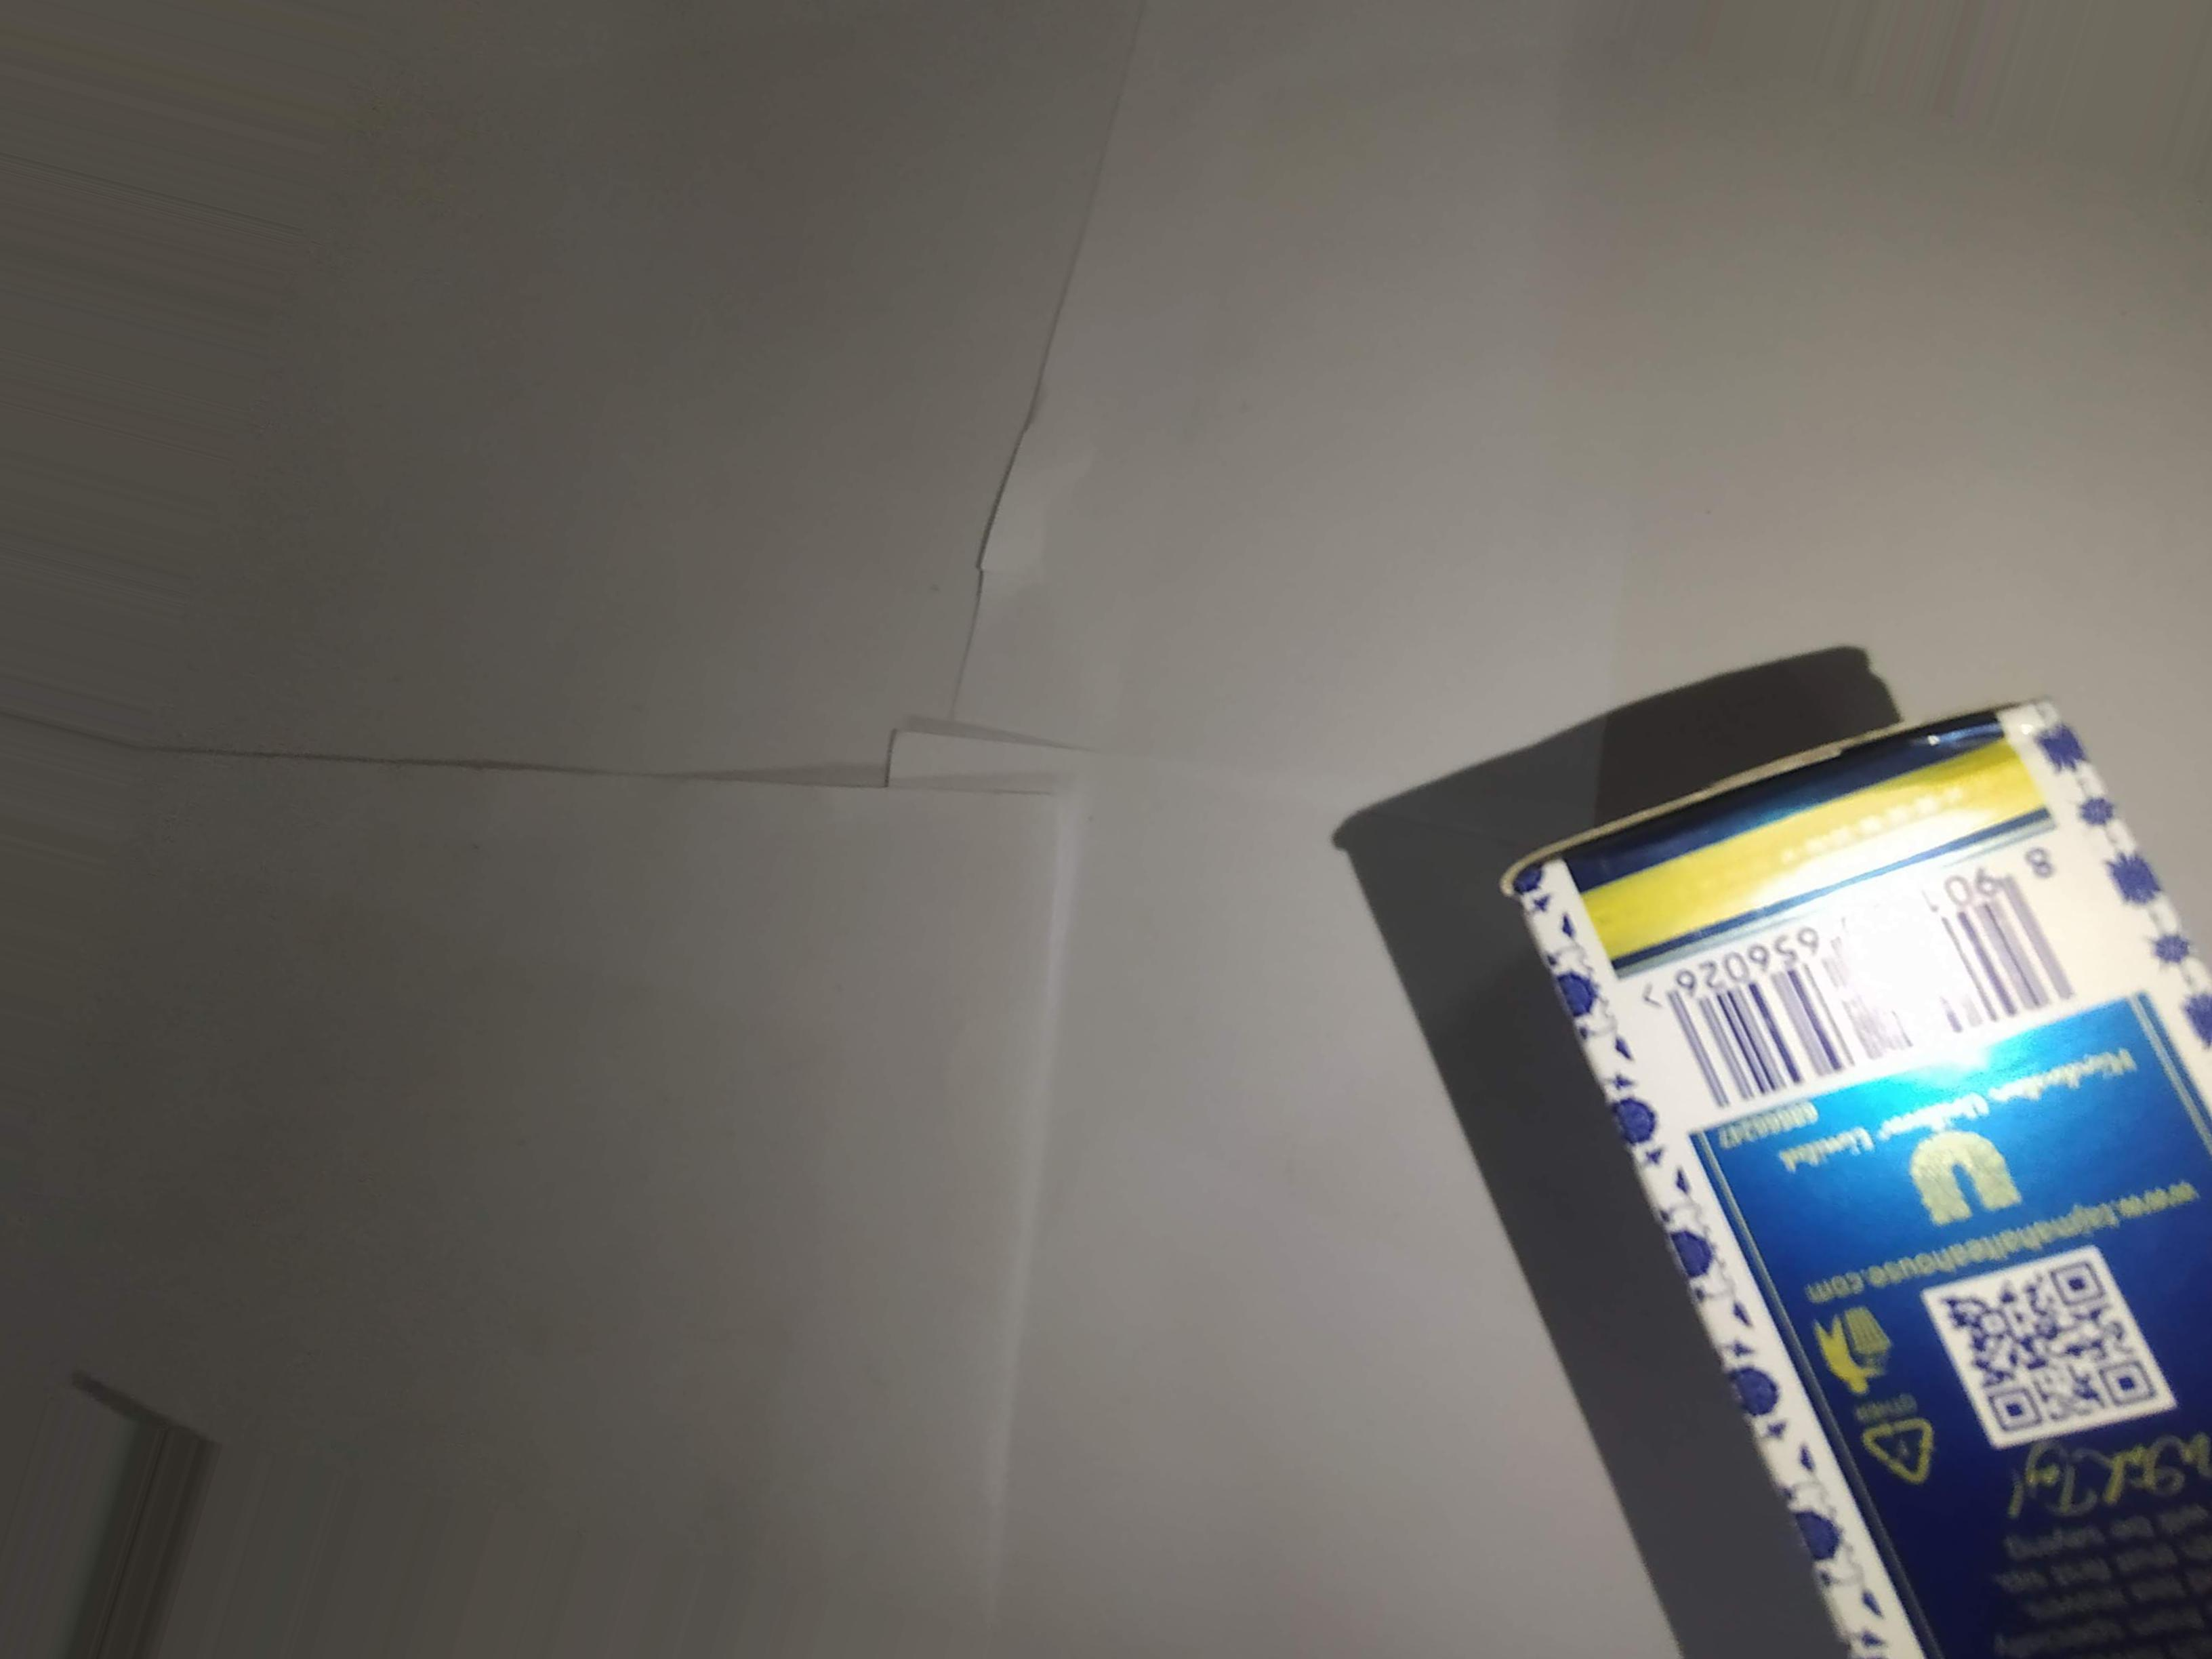Bar_code: (1627, 877, 2120, 1080)
Item: (1442, 650, 2212, 1659)
QR_code: (1912, 1249, 2209, 1452)
